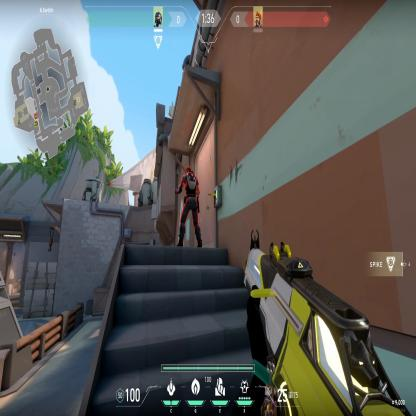enemy: (174, 164, 204, 248)
